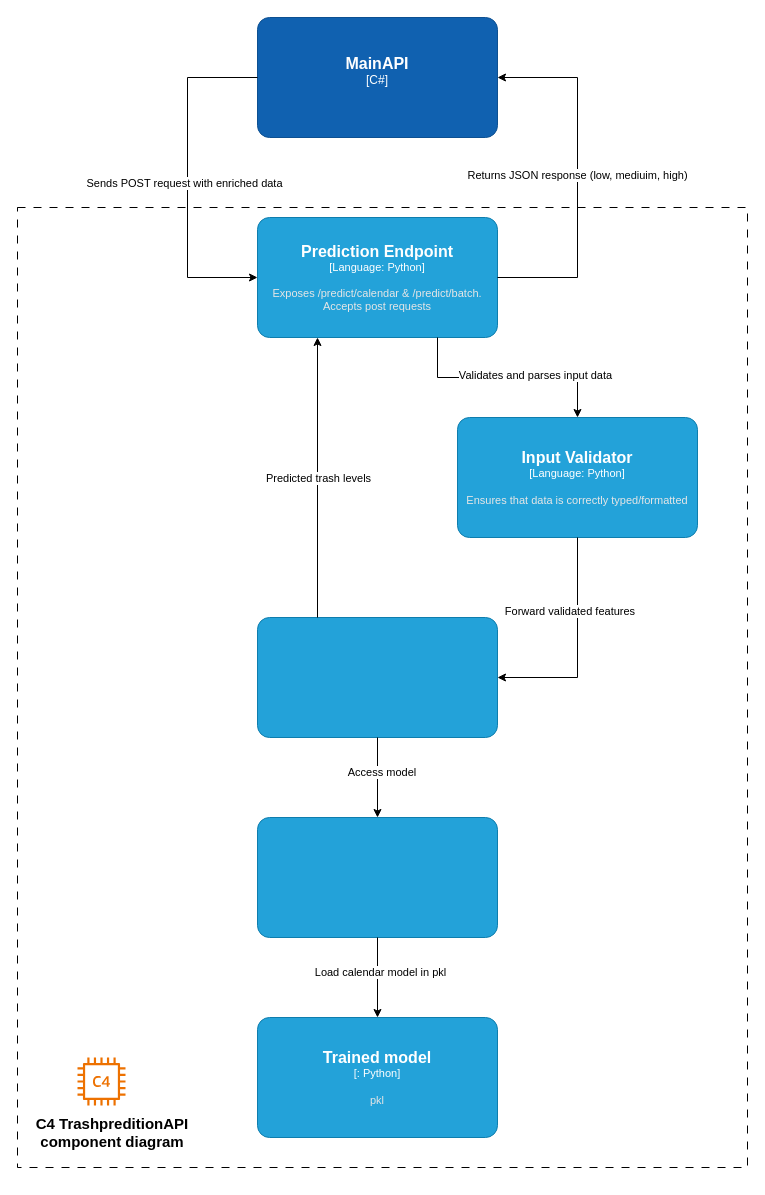
Image size: 765x1195. Some labels were removed from this diagram. Here are the shapes that lost their labels. From the top down, the centre of each, then its label:
At (x=377, y=677): "Prediction engine [language: Python] Uses loaded model to make predictions".
At (x=377, y=877): "Model loader [: Python, joblib] Loads pre-trained .pkl model".
